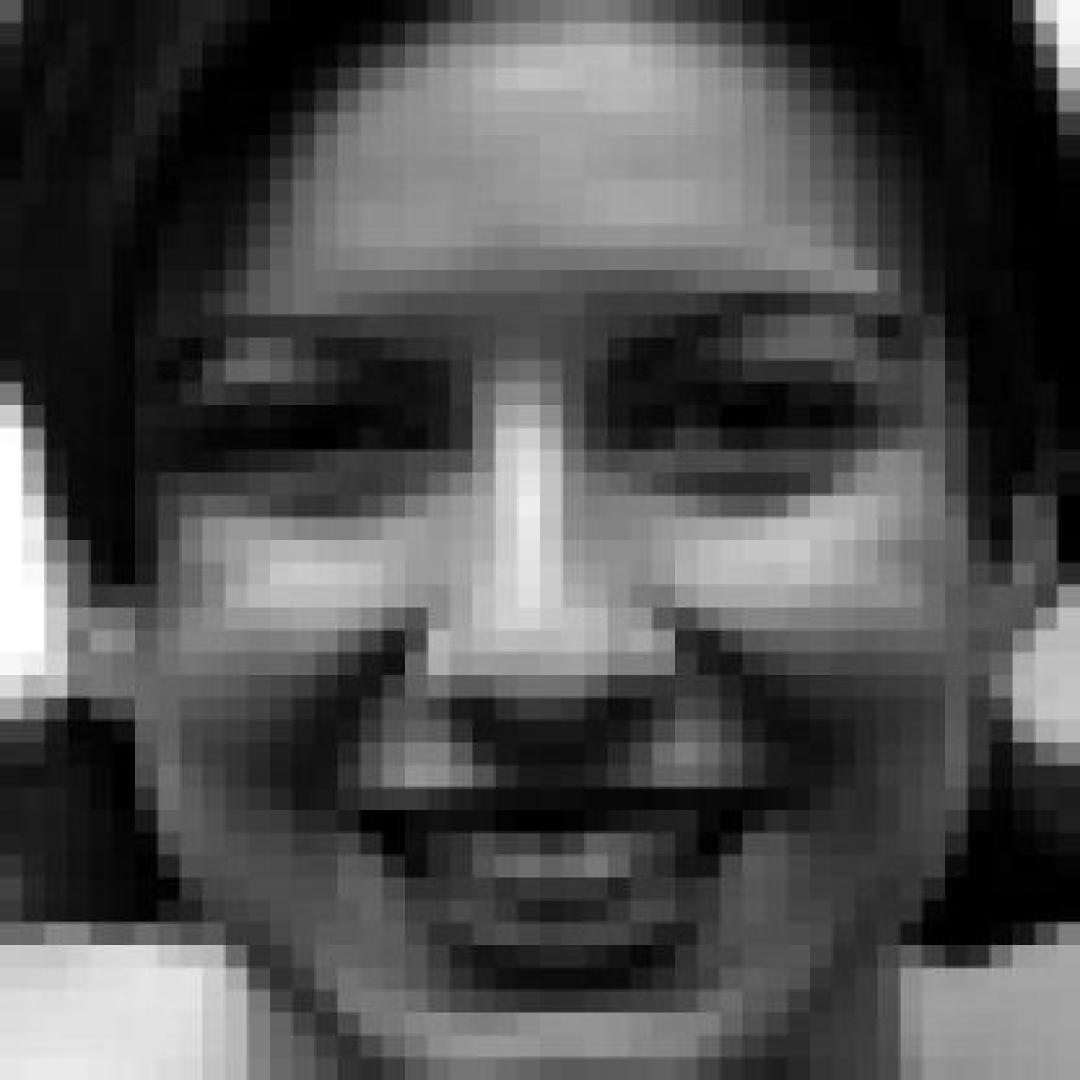happy: (0, 0, 1080, 1075)
